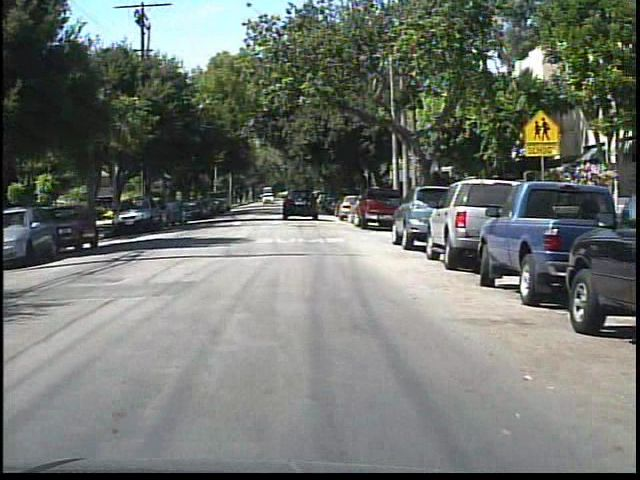car: (473, 158, 570, 297), (566, 170, 640, 332), (425, 169, 490, 267), (1, 204, 55, 265), (45, 196, 101, 249), (394, 184, 440, 244), (354, 186, 398, 227), (280, 187, 322, 221), (113, 196, 155, 230)
